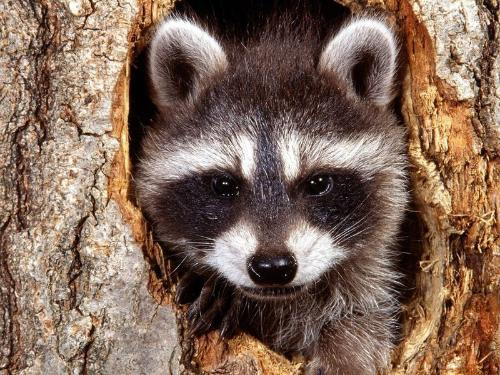raccoon: (121, 9, 426, 374)
